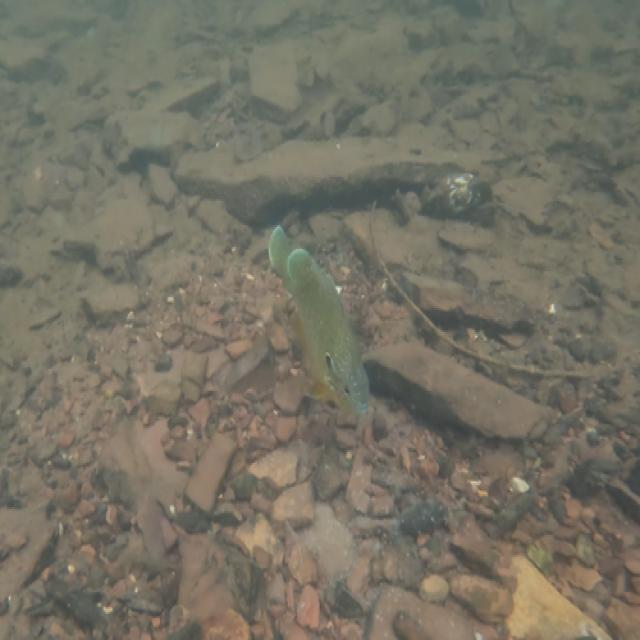Gunes Levregi: (260, 225, 376, 426)
